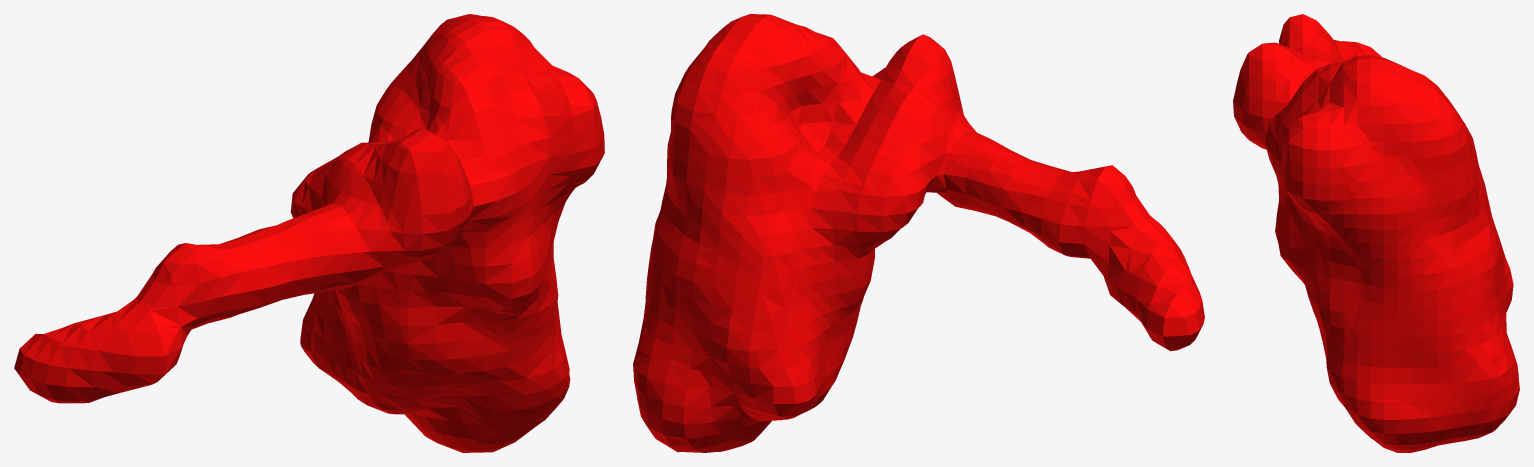
Rendered from flgN_coarse.dae.
3 views of the same model, side by side, from view 1: azimuth 30°, elevation 25°; view 2: azimuth 150°, elevation 25°; view 3: azimuth 270°, elevation 25° (orthographic). The views are drawn at different scales.
Visible parts, largest first — view 1: flgN; view 2: flgN; view 3: flgN.
Boxes of the visible parts, x1,y1,x2,y2 form: flgN: [14, 14, 604, 452]; flgN: [633, 14, 1204, 452]; flgN: [1233, 14, 1519, 452].
Size of the model in its own units: 72.16 by 54.8 by 37.51.
